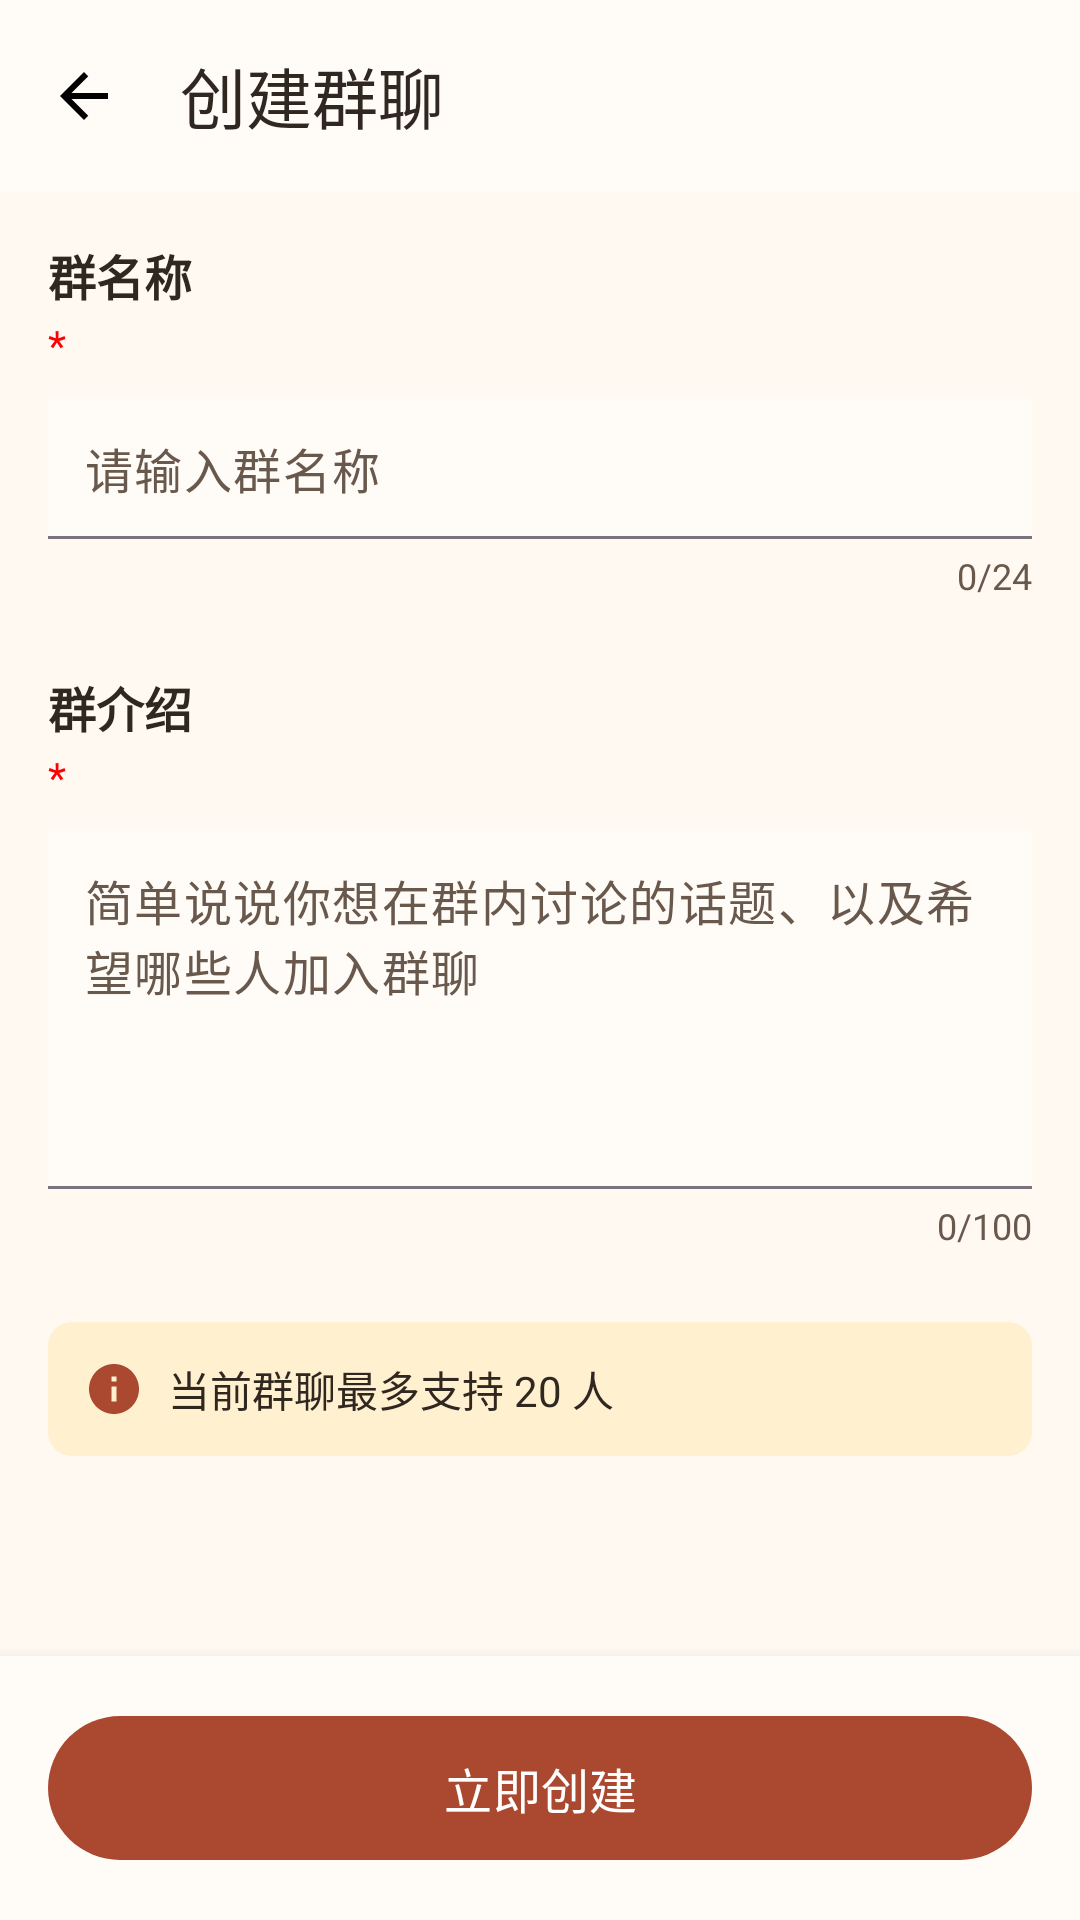

Icons on this 1080*1920 Android screen, each with the point to tap as point (x, y):
提示: point (114, 1389)
